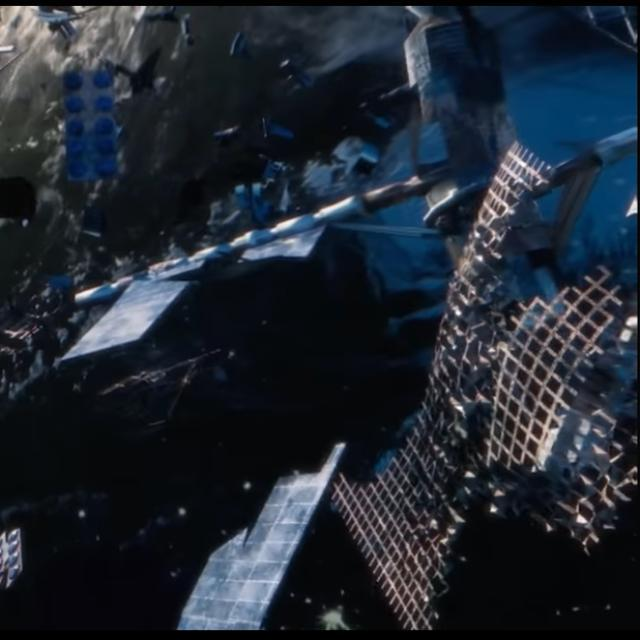large_debris: (319, 122, 640, 640), (46, 152, 439, 378), (366, 4, 570, 270), (171, 430, 353, 640), (42, 49, 126, 199), (0, 507, 33, 595)
